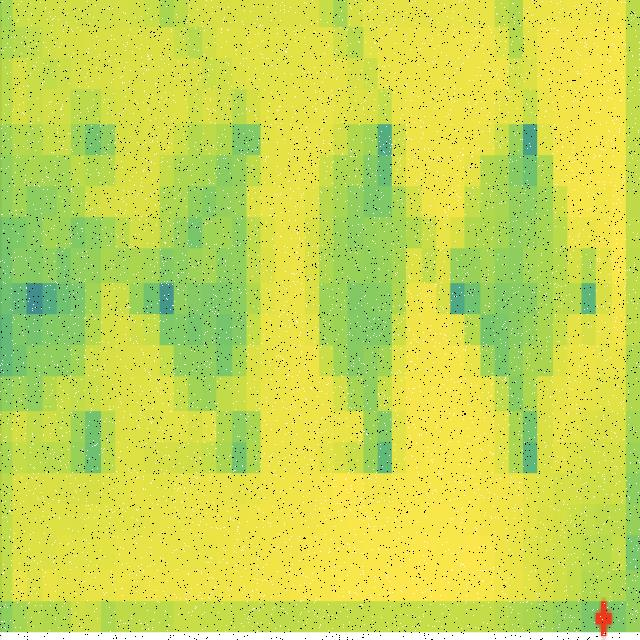Concrete: (462, 107, 583, 417)
Glass: (299, 96, 429, 424)
Metal: (4, 125, 117, 417)
Wood: (140, 104, 264, 411)
